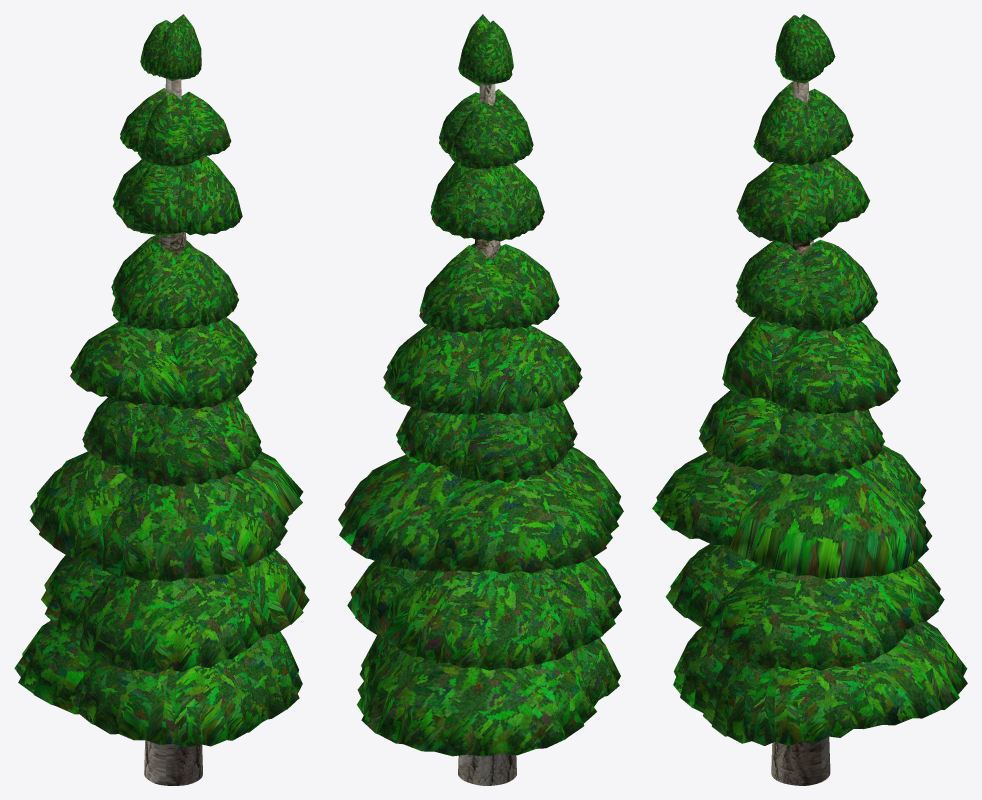
File: tree_pineDefaultA.glb
The picture shows the model from 3 angles, left to right: view 1: azimuth 30°, elevation 25°; view 2: azimuth 150°, elevation 25°; view 3: azimuth 270°, elevation 25°; orthographic projection.
Visible parts, largest first — view 1: Canopy_2_1, Canopy_1_1, Canopy_0_1, Canopy_3_1, Canopy_4_0, Canopy_2_0, Canopy_4_1, Canopy_5_0, Canopy_0_0, Canopy_6_1, Canopy_0_2, Canopy_1_2 (+15 smaller); view 2: Canopy_0_0, Canopy_1_0, Canopy_2_0, Canopy_2_2, Canopy_4_0, Canopy_4_2, Canopy_3_0, Canopy_5_2, Canopy_6_2, Canopy_1_1, Canopy_7_2, Canopy_3_2 (+12 smaller); view 3: Canopy_2_2, Canopy_1_2, Canopy_0_2, Canopy_4_2, Canopy_0_0, Canopy_2_1, Canopy_3_2, Canopy_6_1, Canopy_5_2, Canopy_3_1, Canopy_5_1, Canopy_1_1 (+10 smaller).
Part boxes in pixels (x1,y1,x2,y2): Canopy_2_1: (86,474,288,581); Canopy_1_1: (69,574,269,673); Canopy_0_1: (69,658,261,747); Canopy_3_1: (118,400,261,486); Canopy_4_0: (70,322,187,405); Canopy_2_0: (29,451,134,564); Canopy_4_1: (161,322,253,409); Canopy_5_0: (111,246,200,330); Canopy_0_0: (14,620,93,714); Canopy_6_1: (169,155,242,235); Canopy_0_2: (234,631,302,721); Canopy_1_2: (229,549,309,637); Canopy_0_0: (357,649,597,756); Canopy_1_0: (378,569,573,670); Canopy_2_0: (432,469,612,573); Canopy_2_2: (338,455,473,571); Canopy_4_0: (473,325,582,414); Canopy_4_2: (383,325,485,414); Canopy_3_0: (442,407,570,483); Canopy_5_2: (419,245,516,333); Canopy_6_2: (430,167,525,241); Canopy_1_1: (529,557,622,651); Canopy_7_2: (449,101,527,169); Canopy_3_2: (396,407,468,469); Canopy_2_2: (730,464,931,578); Canopy_1_2: (705,564,907,670); Canopy_0_2: (703,655,875,745); Canopy_4_2: (762,323,900,414); Canopy_0_0: (862,621,967,729); Canopy_2_1: (652,452,778,547); Canopy_3_2: (765,407,884,476); Canopy_6_1: (736,162,837,243); Canopy_5_2: (786,239,878,332); Canopy_3_1: (698,390,783,470); Canopy_5_1: (735,243,809,326); Canopy_1_1: (666,544,758,629).
Bounding box in the file's own units: 2.42 × 7.18 × 2.7.
Materials: 2 (2 with a texture image).
